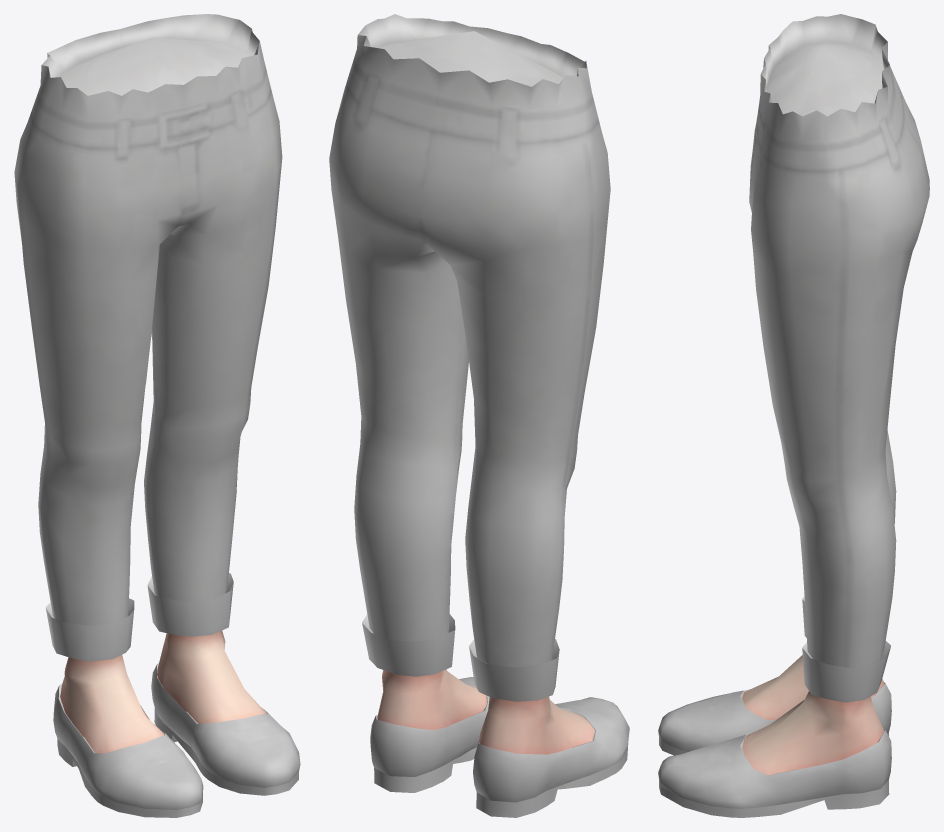
The model's file is tr0870_00_lwb00.gltf.
3 views of the same model, side by side, from view 1: azimuth 30°, elevation 25°; view 2: azimuth 150°, elevation 25°; view 3: azimuth 270°, elevation 25° (orthographic). The views are drawn at different scales.
Parts seen in each view (by area): view 1: lwb00_pants_mesh_shape:lowerbody00, lwb00_shoes_mesh_shape:lowerbody00, lwb00_skin_mesh_shape:lowerbody00_skin; view 2: lwb00_pants_mesh_shape:lowerbody00, lwb00_shoes_mesh_shape:lowerbody00, lwb00_skin_mesh_shape:lowerbody00_skin; view 3: lwb00_pants_mesh_shape:lowerbody00, lwb00_shoes_mesh_shape:lowerbody00, lwb00_skin_mesh_shape:lowerbody00_skin.
Part boxes in pixels (x1=…): lwb00_pants_mesh_shape:lowerbody00: x1=14, y1=14, x2=282, y2=661; lwb00_shoes_mesh_shape:lowerbody00: x1=53, y1=662, x2=300, y2=817; lwb00_skin_mesh_shape:lowerbody00_skin: x1=60, y1=630, x2=266, y2=753; lwb00_pants_mesh_shape:lowerbody00: x1=329, y1=14, x2=610, y2=701; lwb00_shoes_mesh_shape:lowerbody00: x1=370, y1=677, x2=629, y2=817; lwb00_skin_mesh_shape:lowerbody00_skin: x1=377, y1=669, x2=594, y2=754; lwb00_pants_mesh_shape:lowerbody00: x1=749, y1=14, x2=929, y2=702; lwb00_shoes_mesh_shape:lowerbody00: x1=658, y1=682, x2=891, y2=817; lwb00_skin_mesh_shape:lowerbody00_skin: x1=742, y1=655, x2=884, y2=775.
Size of what is drawn, in the model's own units: 0.3709 by 1.02 by 0.3482.
Materials: 2 (2 with a texture image).
